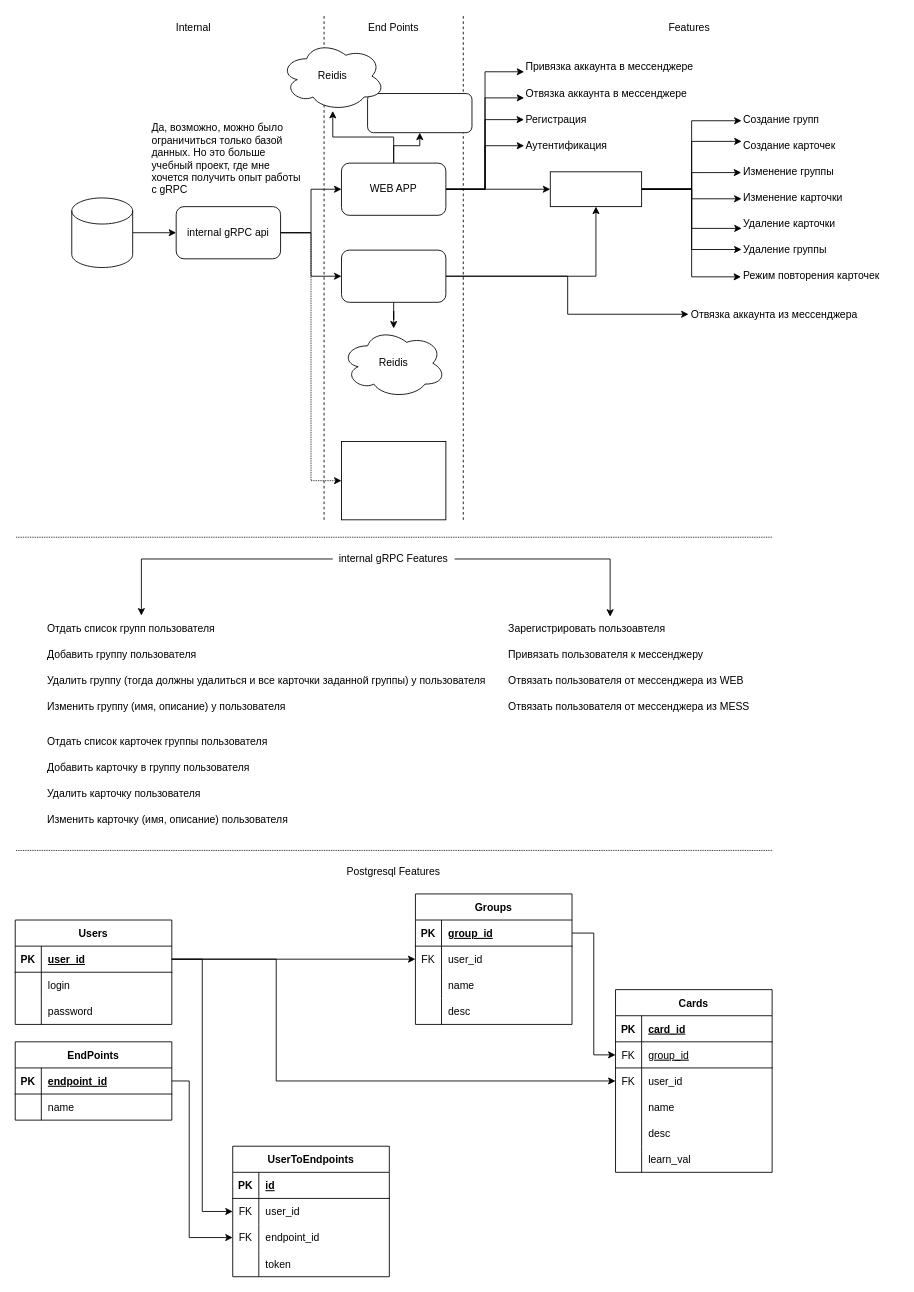
This 914x1292 diagram has some shape labels left out. The centre of each missing label's shape, as x and y in pixels:
MAIN API: pixel 595 189
Postgresql: pixel 102 232
restapi: pixel 419 113
TELEGRAM BOT: pixel 393 275
Можно относительно просто добавить дополнительные интерфейсы для взаимодействия: pixel 393 480
